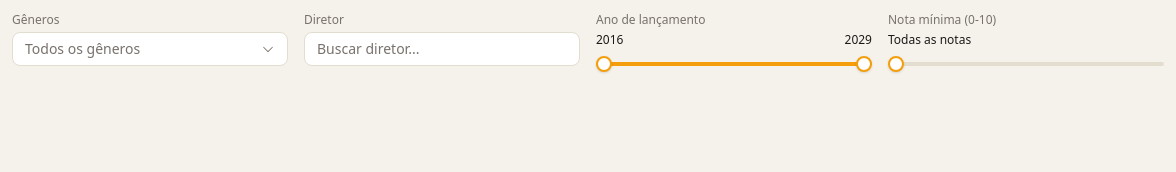
Test: FilterBar › director filter › selects a suggestion and reports it as the confirmed filter
This screenshot has width=1176, height=172.
Type "No" into the field named "Filtrar por diretor" at (442, 49), box [304, 32, 580, 66]
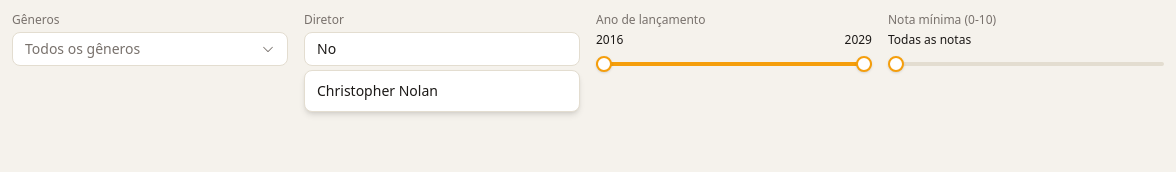
Click the button "Christopher Nolan" at (377, 90), box [305, 75, 579, 107]
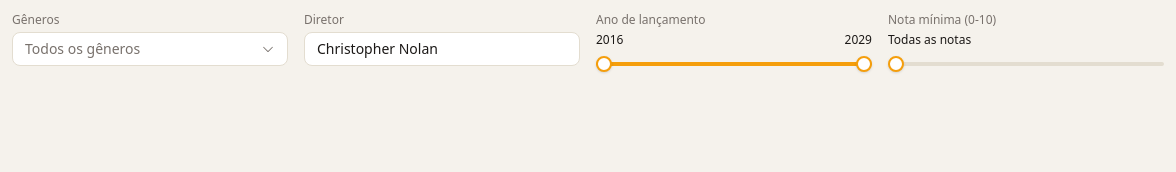
Expected: the field named "Filtrar por diretor" holds "Christopher Nolan", [304, 32, 580, 66]
